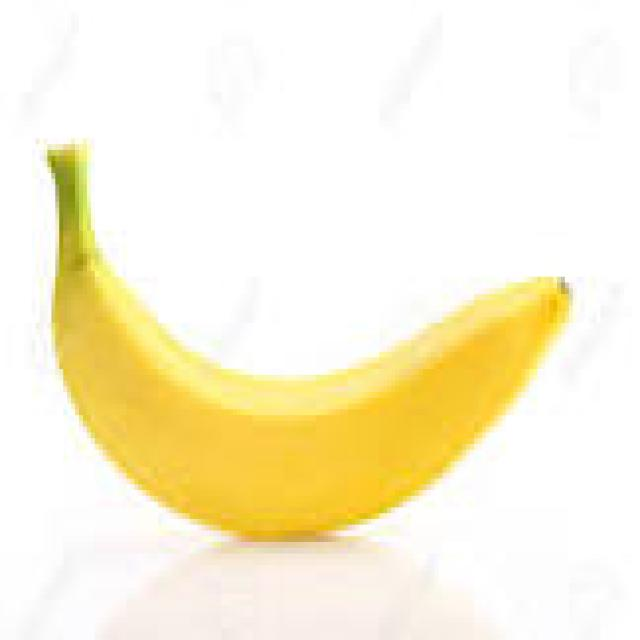Ripe: (44, 135, 579, 546)
